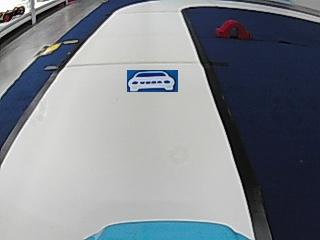bridge: (215, 19, 249, 38)
